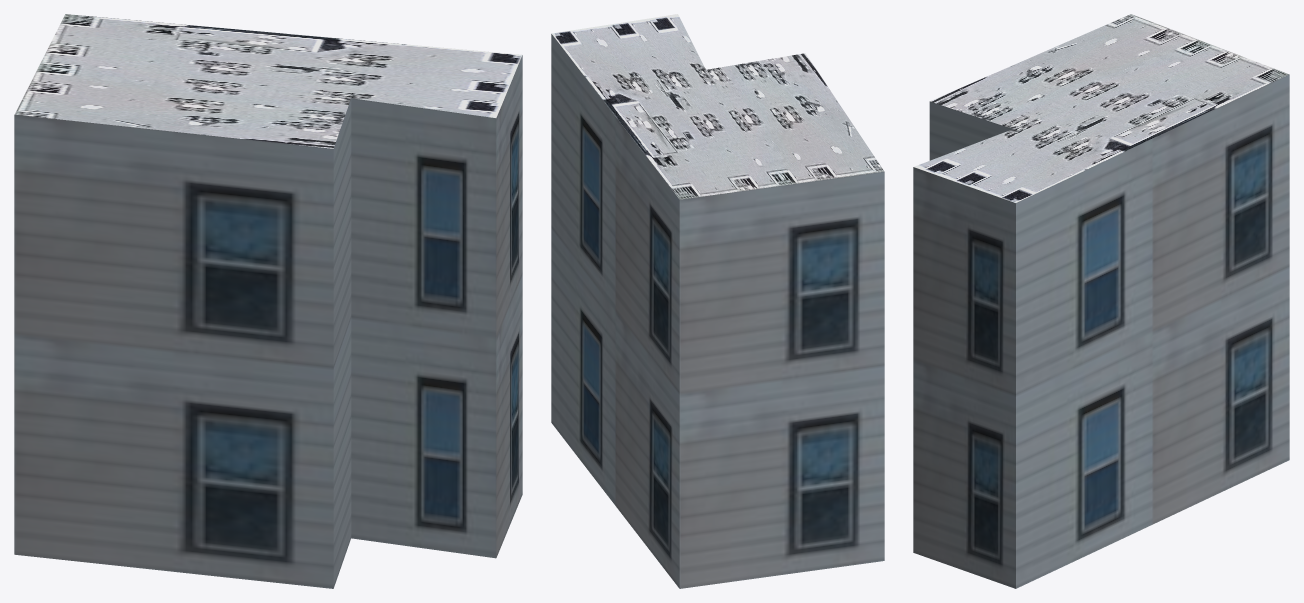
The model's file is ResTex__445.fbx.
3 renders of one model, left to right at view 1: azimuth 30°, elevation 25°; view 2: azimuth 150°, elevation 25°; view 3: azimuth 270°, elevation 25°, orthographic. The views are drawn at different scales.
Parts seen in each view (by area): view 1: CityEngineMaterial_18_m, CityEngineMaterial_8_m; view 2: CityEngineMaterial_18_m, CityEngineMaterial_8_m; view 3: CityEngineMaterial_18_m, CityEngineMaterial_8_m.
Part boxes in pixels (<box>): CityEngineMaterial_18_m: <box>14,55,522,588</box>; CityEngineMaterial_8_m: <box>14,14,522,148</box>; CityEngineMaterial_18_m: <box>551,34,884,588</box>; CityEngineMaterial_8_m: <box>552,14,884,199</box>; CityEngineMaterial_18_m: <box>913,74,1289,588</box>; CityEngineMaterial_8_m: <box>914,14,1288,202</box>.
Size of the model in its own units: 6.31 by 6 by 5.3.
2 materials, 2 textured.
